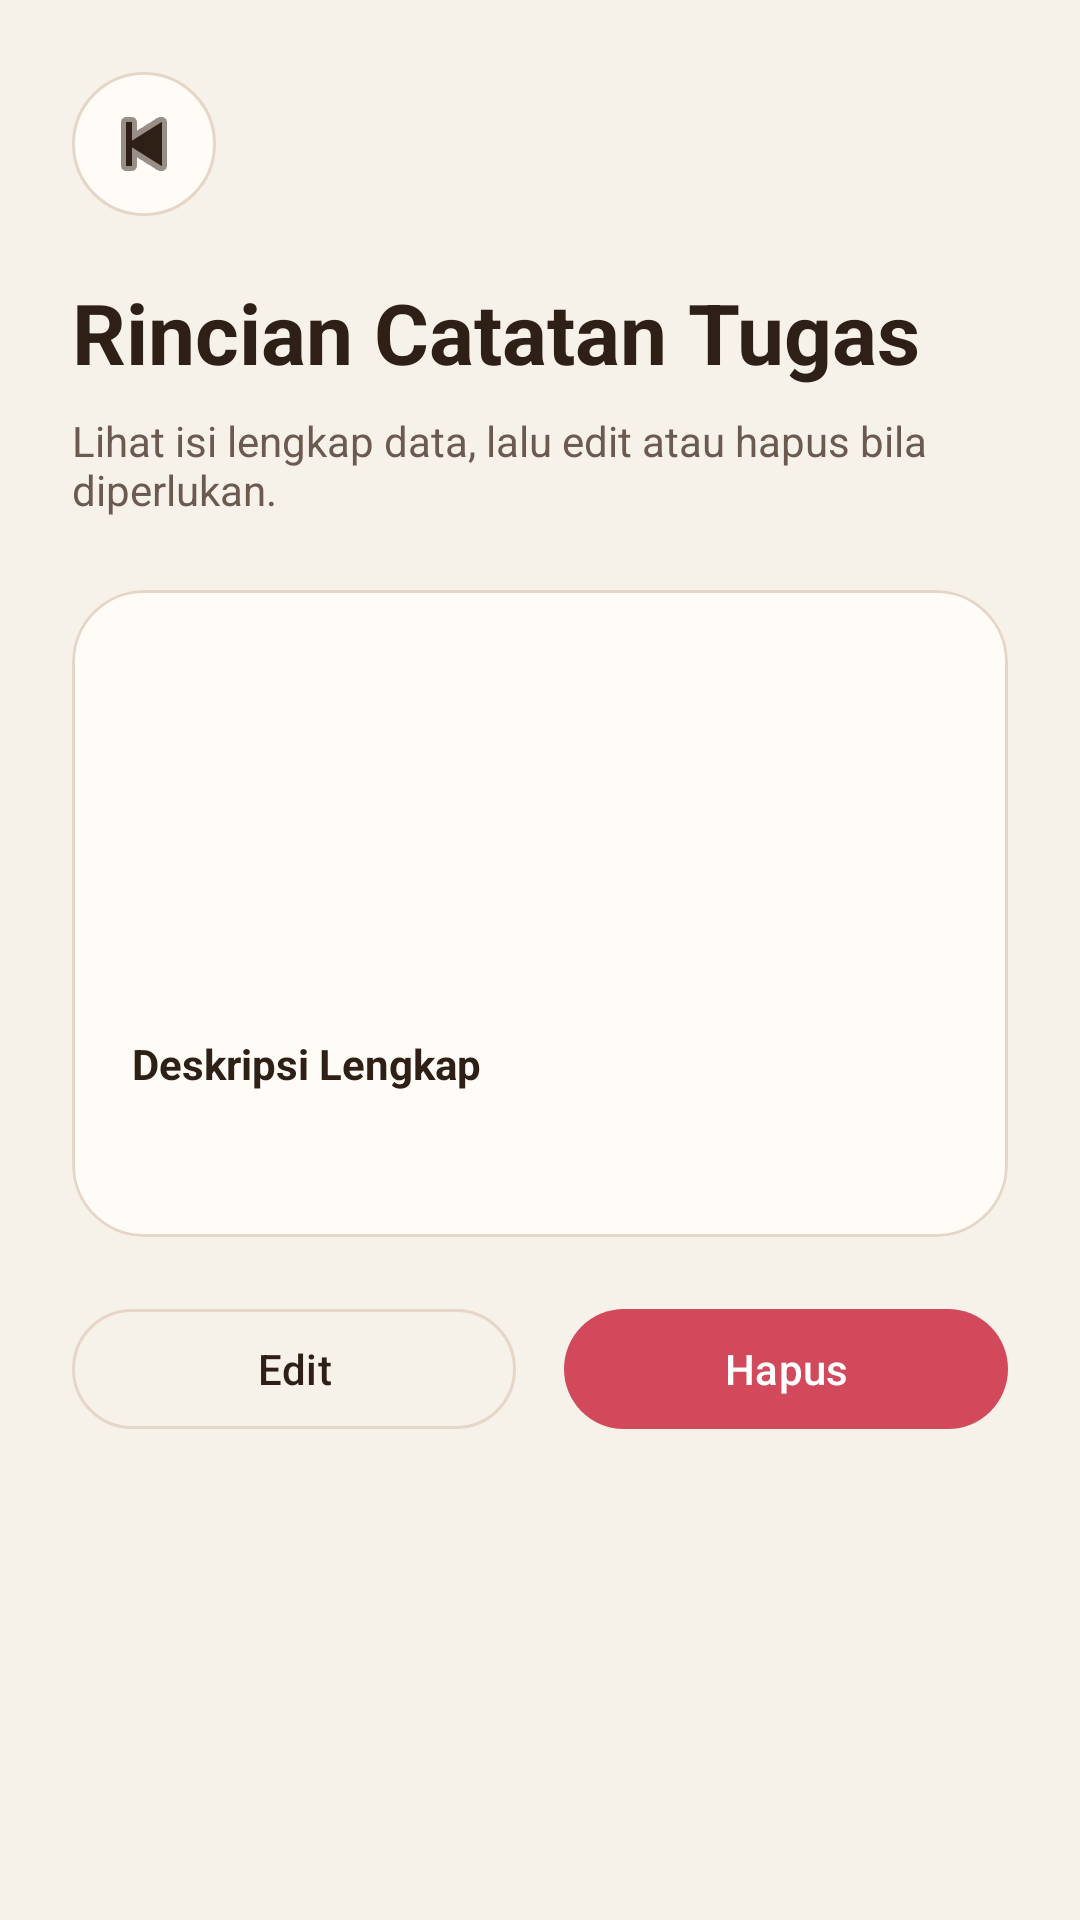

Icons on this 1080w x 1920h Android screen, each with its box as (x1,y1,x2,y2):
Kembali: (72,72,216,216)
